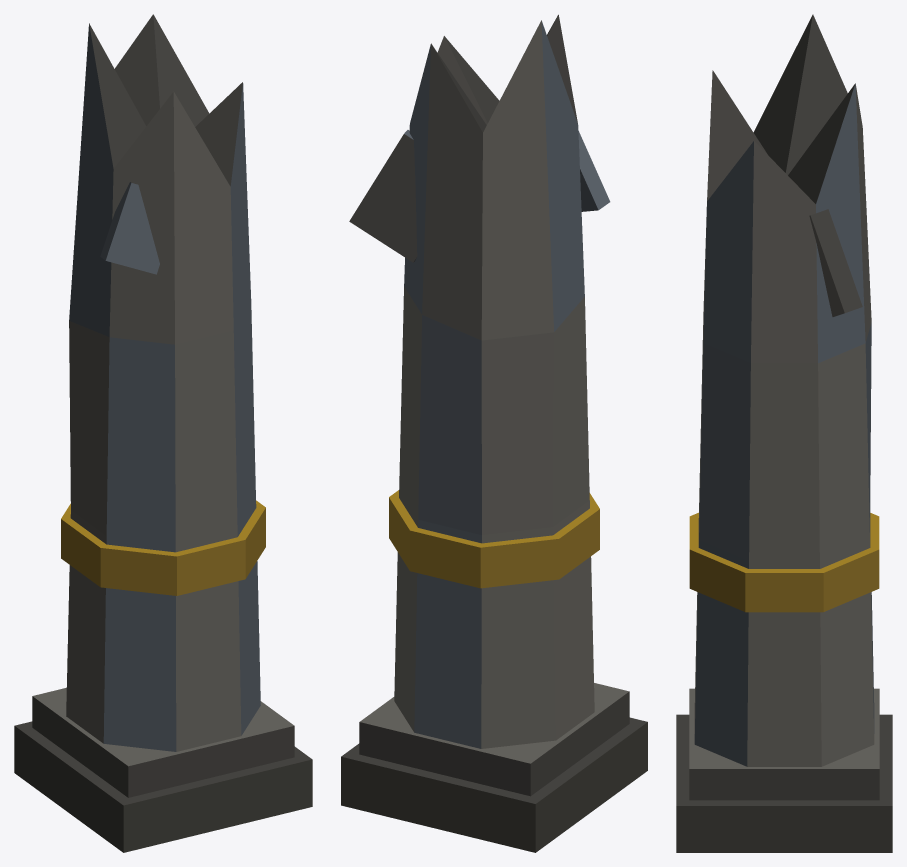
Rendered from column.glb.
3 renders of one model, left to right at view 1: azimuth 30°, elevation 25°; view 2: azimuth 150°, elevation 25°; view 3: azimuth 270°, elevation 25°, orthographic. The views are drawn at different scales.
Visible parts, largest first — view 1: Column; view 2: Column; view 3: Column.
Part boxes in pixels (box(x1,y1,x2,y2)): Column: box(14, 14, 312, 852); Column: box(341, 14, 647, 852); Column: box(676, 14, 892, 852).
Bounding box in the file's own units: 0.5329 × 1.95 × 0.5.
1 material, 1 textured.
